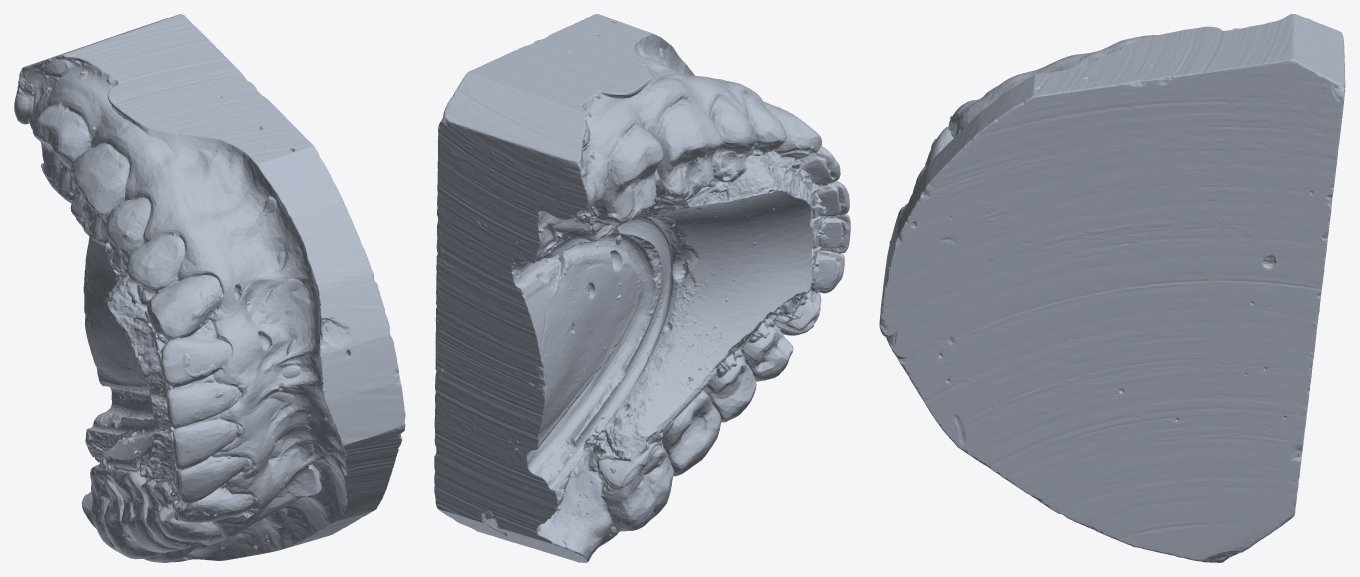
Rendered from micro-teeth.glb.
3 renders of one model, left to right at view 1: azimuth 30°, elevation 25°; view 2: azimuth 150°, elevation 25°; view 3: azimuth 270°, elevation 25°, orthographic.
Parts seen in each view (by area): view 1: geometry_0; view 2: geometry_0; view 3: geometry_0.
Boxes of the visible parts, x1=… form: geometry_0: x1=14, y1=14, x2=405, y2=562; geometry_0: x1=434, y1=14, x2=850, y2=562; geometry_0: x1=879, y1=14, x2=1345, y2=562.
Size of the model in its own units: 0.4904 by 1 by 0.8506.
